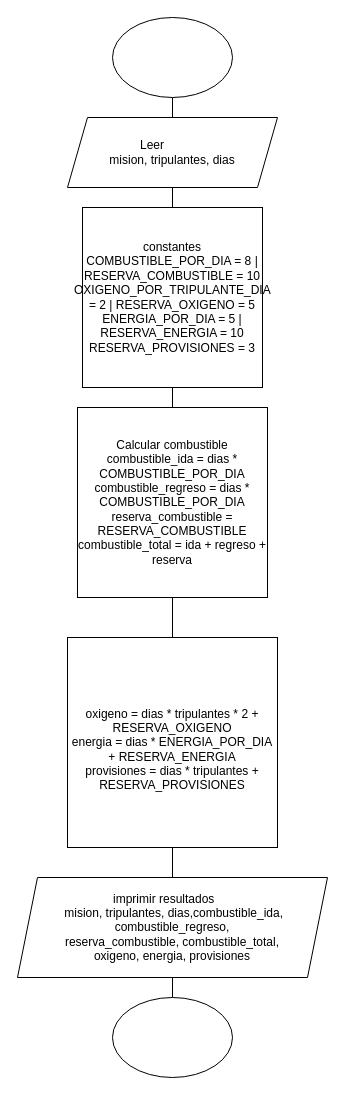
Image size: 345x1095. Some labels were removed from this diagram. The shapes that lost their labels are listed below. From the top down, each one's centre as x and y in pixels, then its label:
At pixel 172 57: "inicio".
At pixel 172 1037: "fin".
